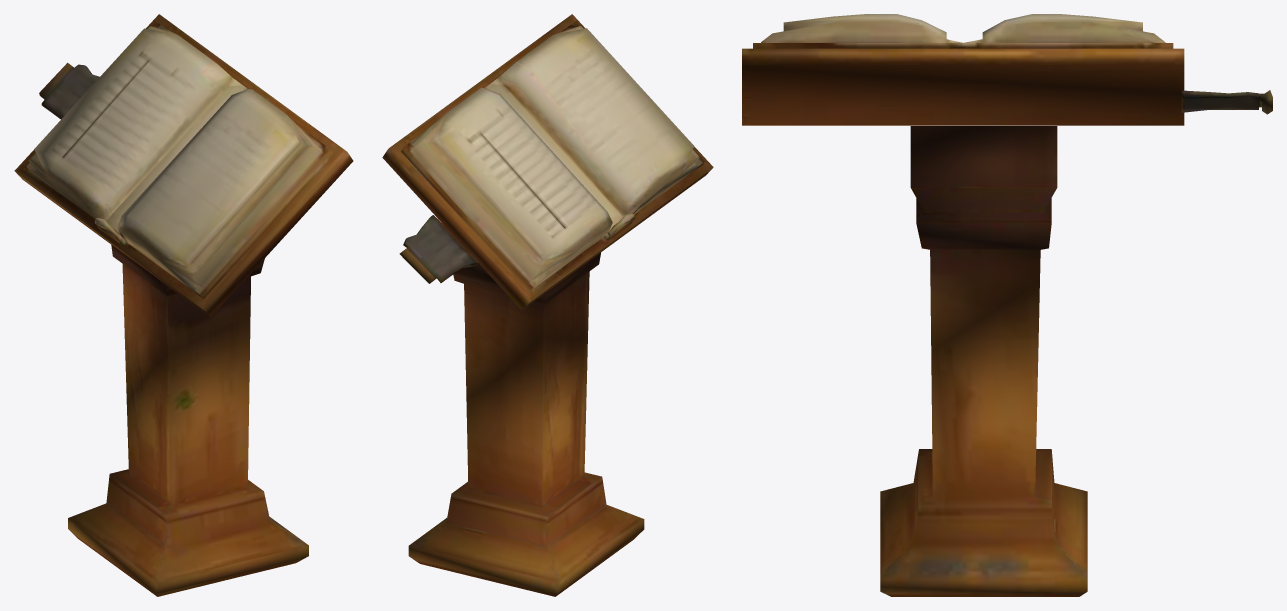
File: wyn_outpost_gilt_ledger.glb
The picture shows the model from 3 angles, left to right: view 1: azimuth 30°, elevation 25°; view 2: azimuth 150°, elevation 25°; view 3: azimuth 270°, elevation 25°; orthographic projection. The views are drawn at different scales.
Parts seen in each view (by area): view 1: tripo_node_2d4051f8-9ba0-4b75-9686-2a71a79f1c0f; view 2: tripo_node_2d4051f8-9ba0-4b75-9686-2a71a79f1c0f; view 3: tripo_node_2d4051f8-9ba0-4b75-9686-2a71a79f1c0f.
Boxes of the visible parts, left/top/right/bottom form: tripo_node_2d4051f8-9ba0-4b75-9686-2a71a79f1c0f: left=14, top=14, right=353, bottom=596; tripo_node_2d4051f8-9ba0-4b75-9686-2a71a79f1c0f: left=382, top=14, right=713, bottom=596; tripo_node_2d4051f8-9ba0-4b75-9686-2a71a79f1c0f: left=742, top=14, right=1272, bottom=596.
Bounding box in the file's own units: 0.4977 × 1.3 × 1.12.
1 material, 1 textured.
